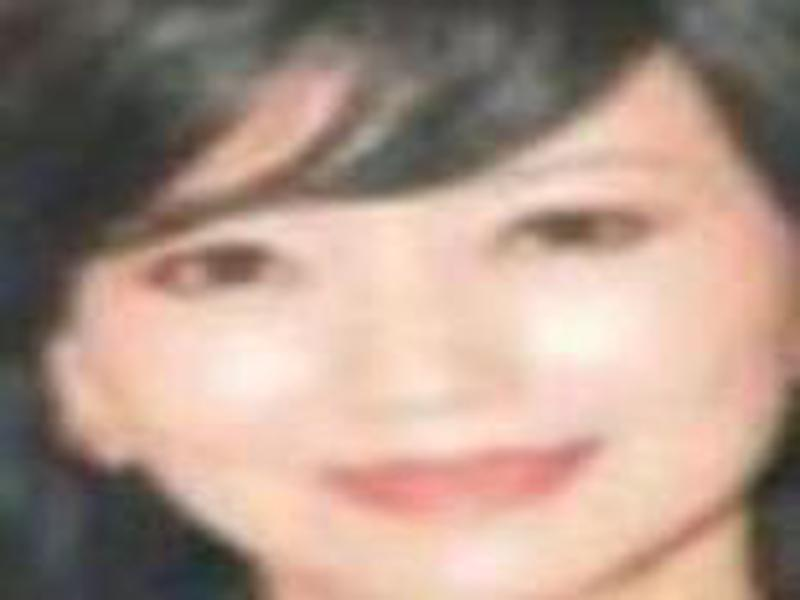without_mask: (68, 85, 776, 591)
